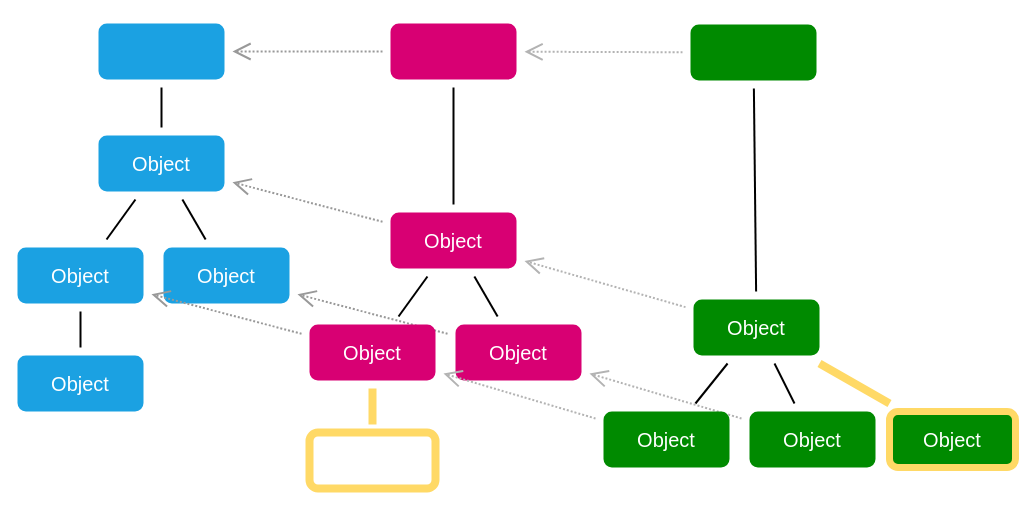
This 1036x509 diagram has some shape labels left out. The centre of each missing label's shape, as x and y in pixels:
Branch 1: the point at 453,51
Branch 2: the point at 753,52
Root: the point at 161,51
